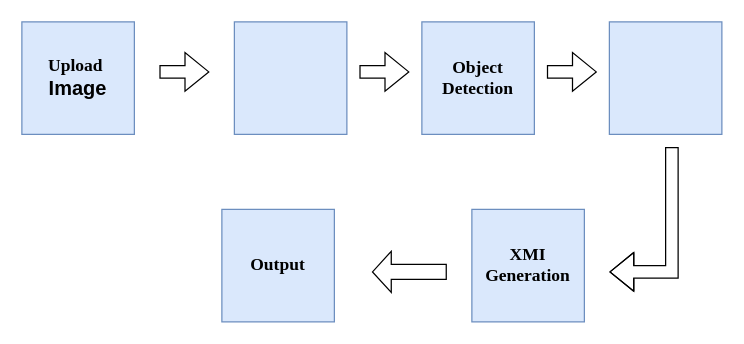
Image size: 744x344. Some labels were removed from this diagram. Here are the shapes that lost their labels. From the top down, the box of each, then its label:
(233, 21, 347, 134): Pre-Processing Module
(608, 21, 722, 134): Feature Extraction
